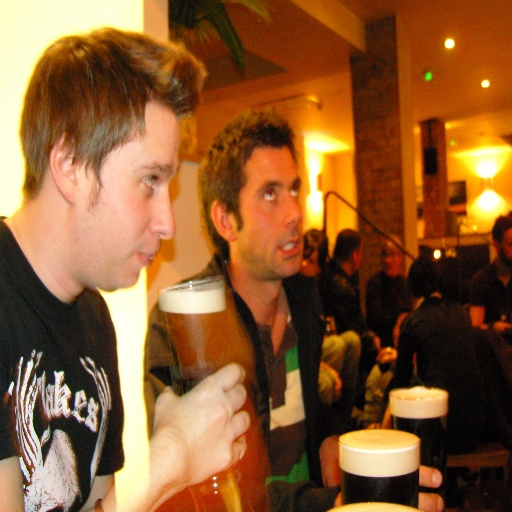hand: (136, 368, 256, 458), (332, 462, 444, 511), (375, 345, 397, 362), (493, 316, 510, 334)
